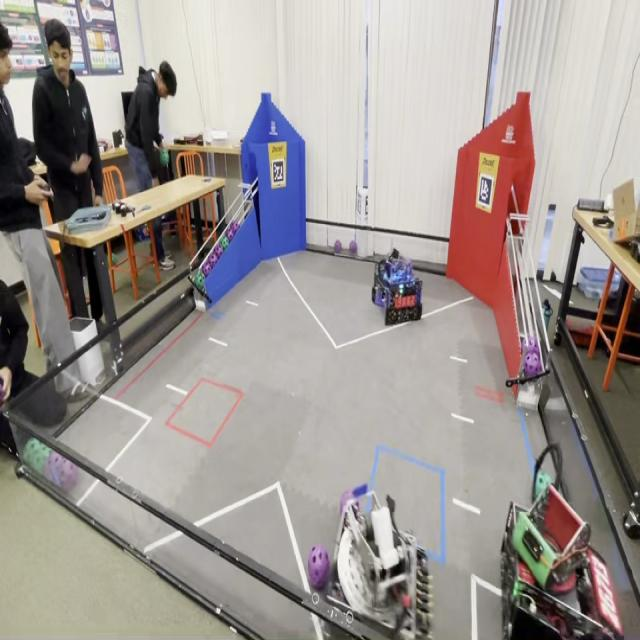artifact_green: (22, 439, 51, 475), (535, 472, 553, 498), (22, 438, 38, 465), (340, 490, 354, 515), (201, 261, 212, 277), (194, 270, 204, 287), (160, 150, 169, 167), (513, 580, 521, 598), (221, 236, 229, 250), (200, 272, 205, 291), (112, 254, 117, 266), (197, 268, 202, 277)
artifact_purple: (45, 452, 78, 491), (308, 546, 329, 590), (524, 352, 541, 378), (340, 491, 354, 515), (522, 337, 539, 355), (526, 337, 539, 356), (202, 260, 212, 277), (208, 253, 218, 269), (226, 226, 235, 241), (520, 338, 528, 354), (214, 245, 223, 259), (230, 221, 239, 234), (349, 240, 357, 253), (334, 240, 341, 253), (0, 380, 3, 404)
